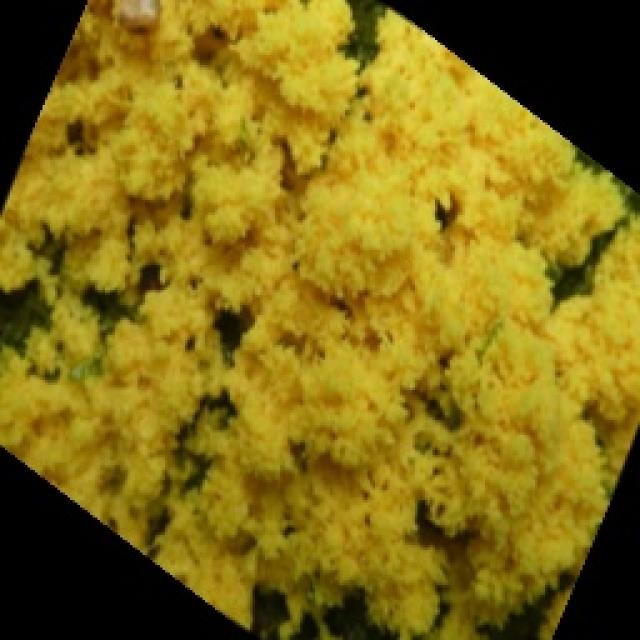Chlorosis: (0, 0, 638, 638)
Dog_vomit_slime_mold: (0, 0, 640, 639)
